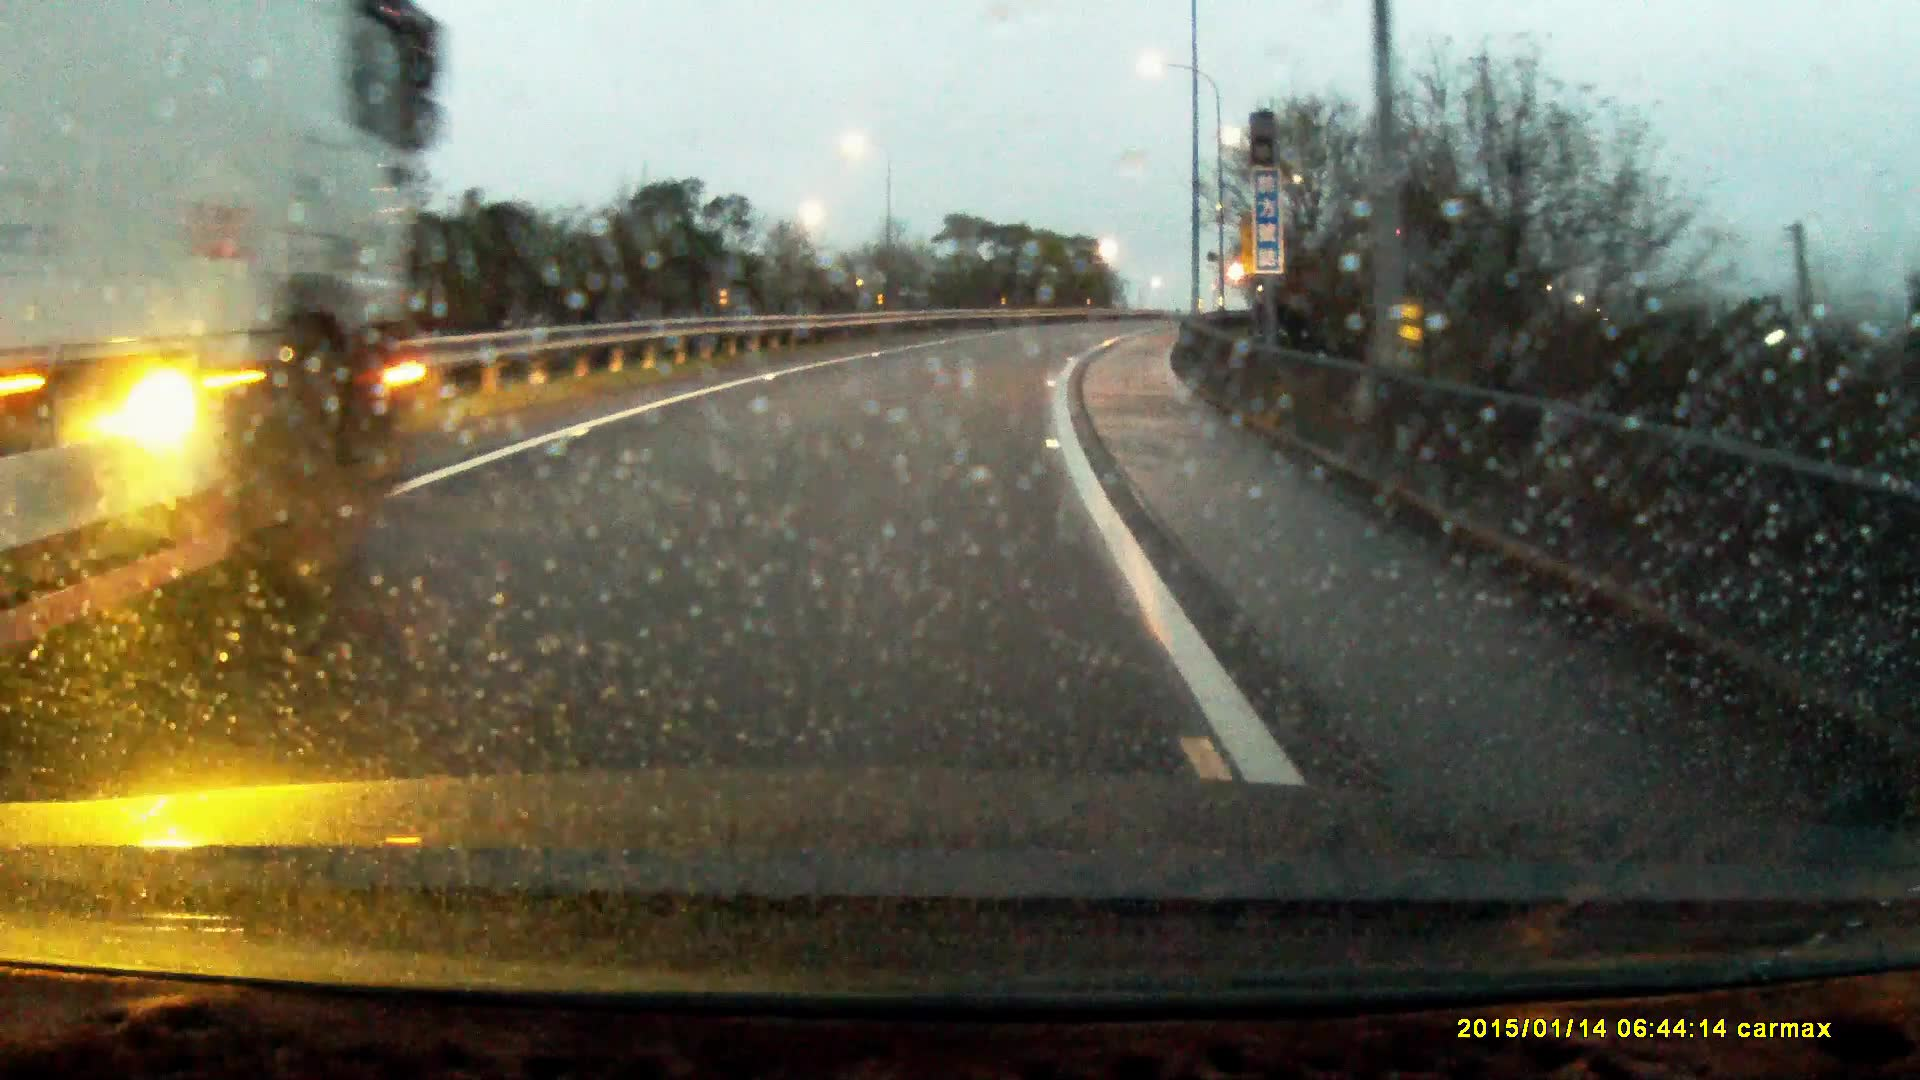vehicle: (1, 1, 440, 647)
